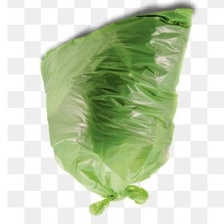plastic_bag: (32, 2, 205, 216)
